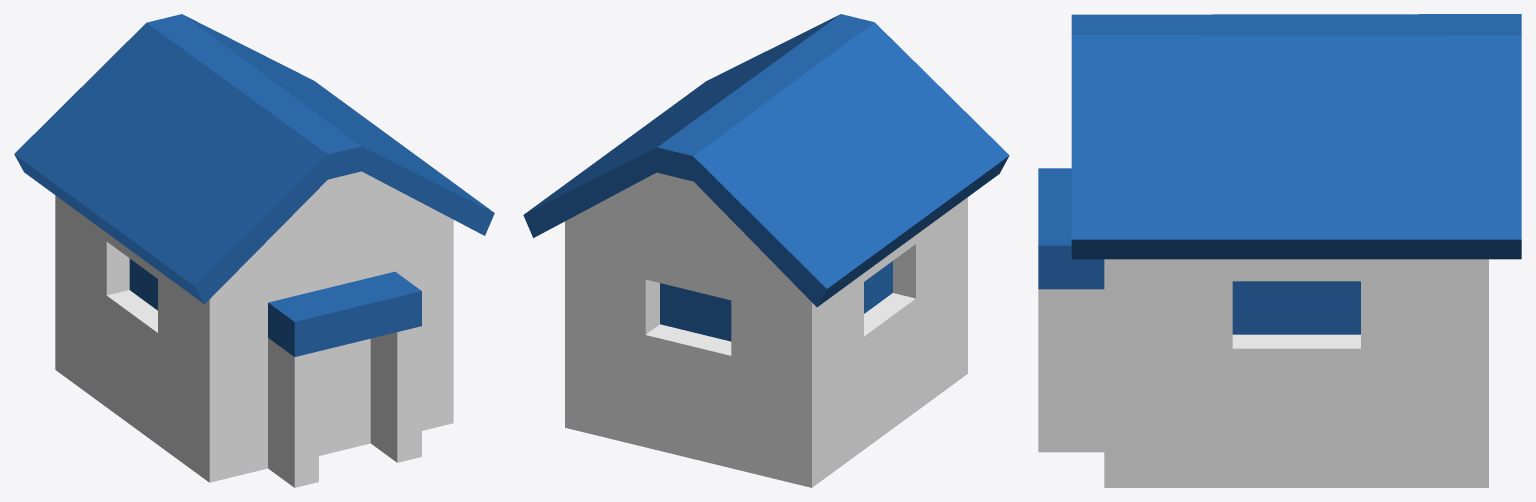
Rendered from House.fbx.
3 renders of one model, left to right at view 1: azimuth 30°, elevation 25°; view 2: azimuth 150°, elevation 25°; view 3: azimuth 270°, elevation 25°, orthographic. The views are drawn at different scales.
Visible parts, largest first — view 1: House; view 2: House; view 3: House.
Part boxes in pixels (x1=…): House: x1=14, y1=14, x2=494, y2=487; House: x1=523, y1=14, x2=1009, y2=487; House: x1=1038, y1=14, x2=1521, y2=487.
Bounding box in the file's own units: 1.01 × 1.01 × 1.13.
